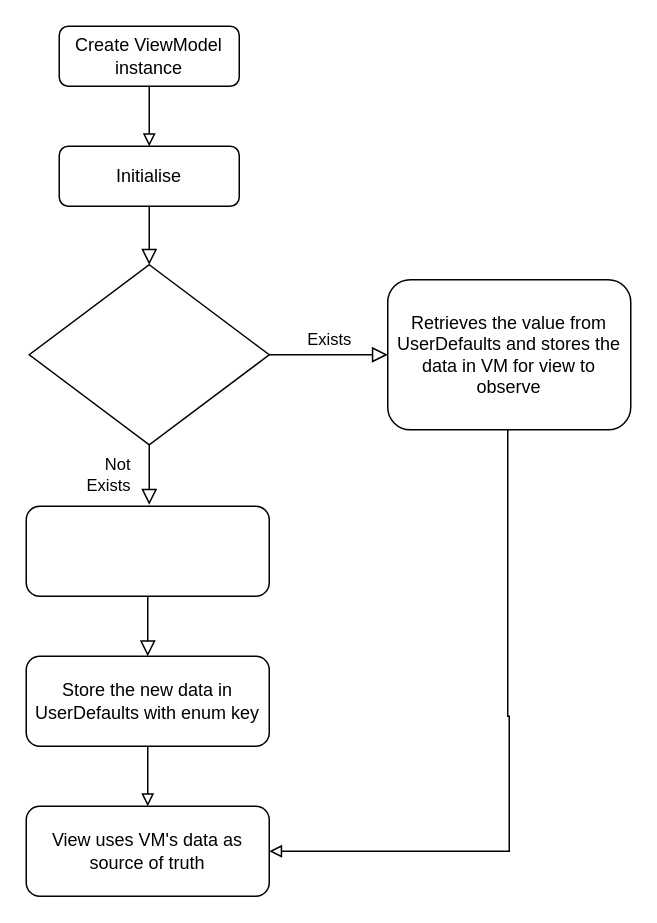
Some shapes in this 657 by 923 pixel diagram are drawn without their labels. The shapes that lost their labels are listed below. From the top down, each one's centre as x and y in pixels, then its label:
At point (148, 354): "Check UserDefatuls with enum key to see if value exists".
At point (147, 550): "Use PortalScraper to scrape the latest data".
